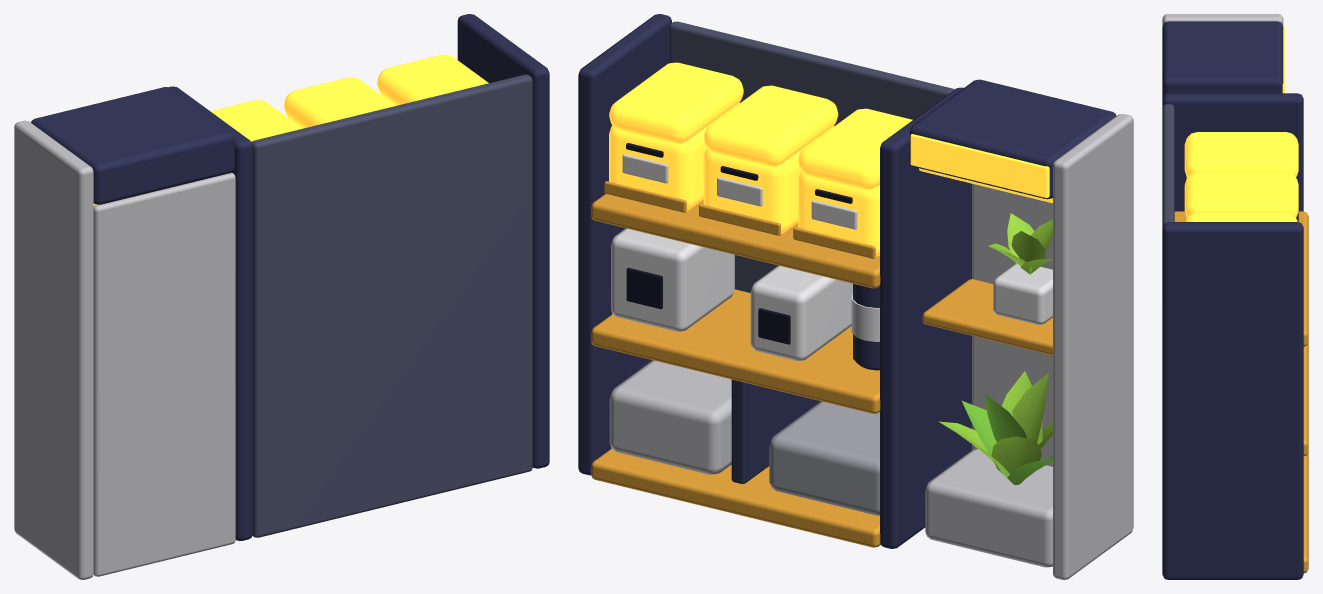
File: prop.props_lounge.shelf_unit.glb
3 renders of one model, left to right at view 1: azimuth 30°, elevation 25°; view 2: azimuth 150°, elevation 25°; view 3: azimuth 270°, elevation 25°, orthographic. The views are drawn at different scales.
Visible parts, largest first — view 1: prop.props_lounge.shelf_unit; view 2: prop.props_lounge.shelf_unit; view 3: prop.props_lounge.shelf_unit.
Boxes of the visible parts, x1,y1,x2,y2 form: prop.props_lounge.shelf_unit: (14,14,549,579); prop.props_lounge.shelf_unit: (578,14,1133,579); prop.props_lounge.shelf_unit: (1162,14,1308,579).
Size of the model in its own units: 1.2 by 1 by 0.362.
